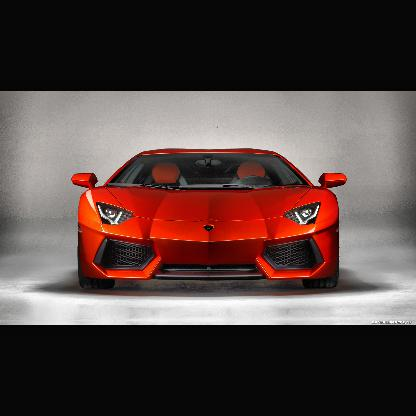Lamborghini Aventador Coupe 2012: (72, 148, 349, 294)
